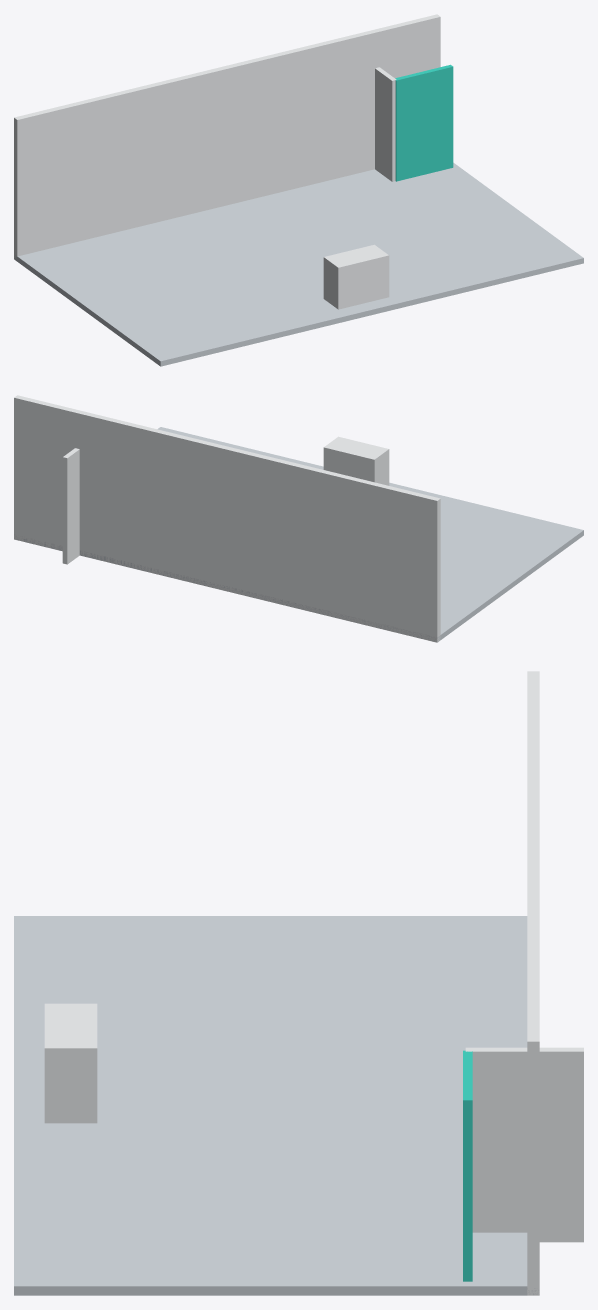
3 views of the same model, one above another, from view 1: azimuth 30°, elevation 25°; view 2: azimuth 150°, elevation 25°; view 3: azimuth 270°, elevation 25° (orthographic). The views are drawn at different scales.
Parts seen in each view (by area): view 1: Exhibition Booth Concept; view 2: Exhibition Booth Concept; view 3: Exhibition Booth Concept.
Boxes of the visible parts, <box> form: Exhibition Booth Concept: <box>14,14,583,366</box>; Exhibition Booth Concept: <box>14,395,583,642</box>; Exhibition Booth Concept: <box>14,671,583,1295</box>.
Size of the model in its own units: 10 by 3.2 by 6.51.
